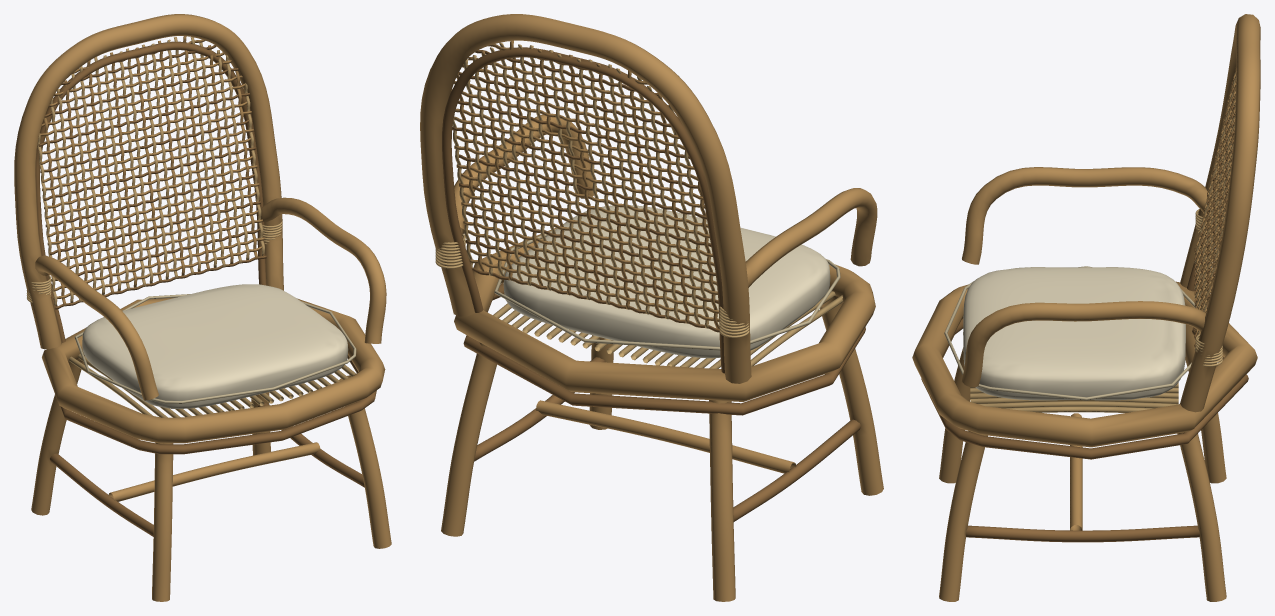
Rendered from chair.glb.
3 renders of one model, left to right at view 1: azimuth 30°, elevation 25°; view 2: azimuth 150°, elevation 25°; view 3: azimuth 270°, elevation 25°, orthographic. The views are drawn at different scales.
Visible parts, largest first — view 1: Atelier_Chair; view 2: Atelier_Chair; view 3: Atelier_Chair.
Boxes of the visible parts, left/top/right/bottom form: Atelier_Chair: left=14, top=14, right=391, bottom=601; Atelier_Chair: left=420, top=14, right=883, bottom=601; Atelier_Chair: left=912, top=14, right=1260, bottom=601.
Bounding box in the file's own units: 1.17 × 1.67 × 1.05.
